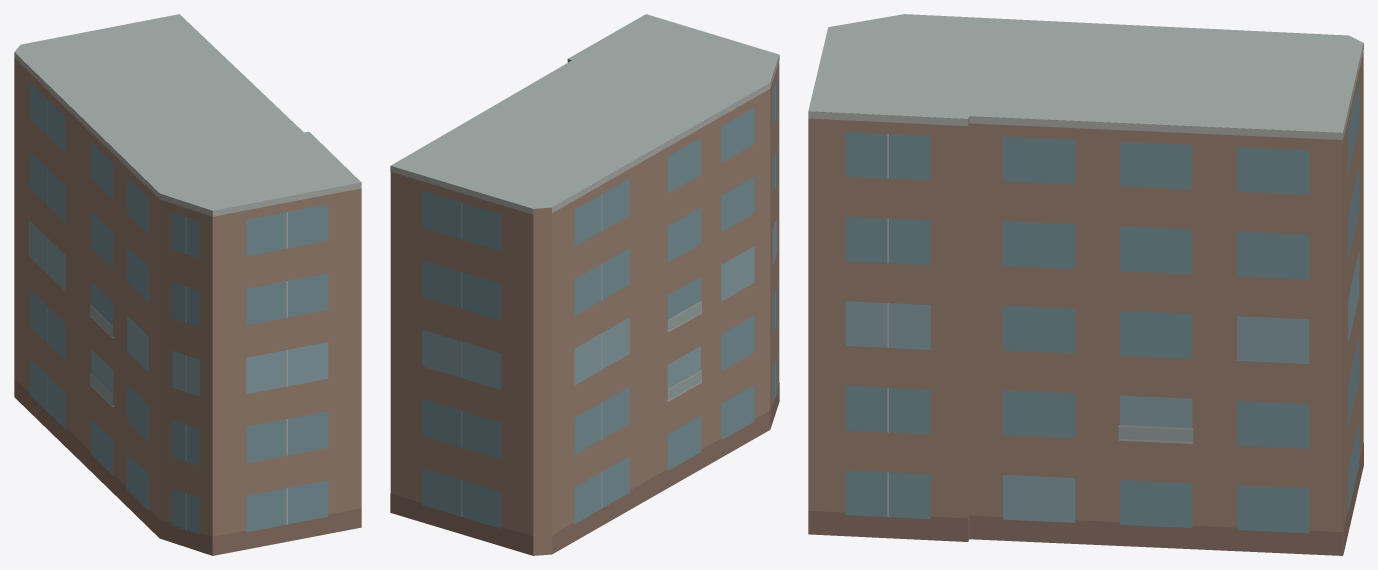
The model's file is survey-upis-32969989.glb.
3 renders of one model, left to right at view 1: azimuth 30°, elevation 25°; view 2: azimuth 150°, elevation 25°; view 3: azimuth 270°, elevation 25°, orthographic. The views are drawn at different scales.
Visible parts, largest first — view 1: survey-upis-32969989.tmp; view 2: survey-upis-32969989.tmp; view 3: survey-upis-32969989.tmp.
Part boxes in pixels (bbox=[...]): survey-upis-32969989.tmp: bbox=[14, 14, 361, 555]; survey-upis-32969989.tmp: bbox=[390, 14, 779, 555]; survey-upis-32969989.tmp: bbox=[808, 14, 1363, 555].
Size of the model in its own units: 8.63 by 14.3 by 17.03.
